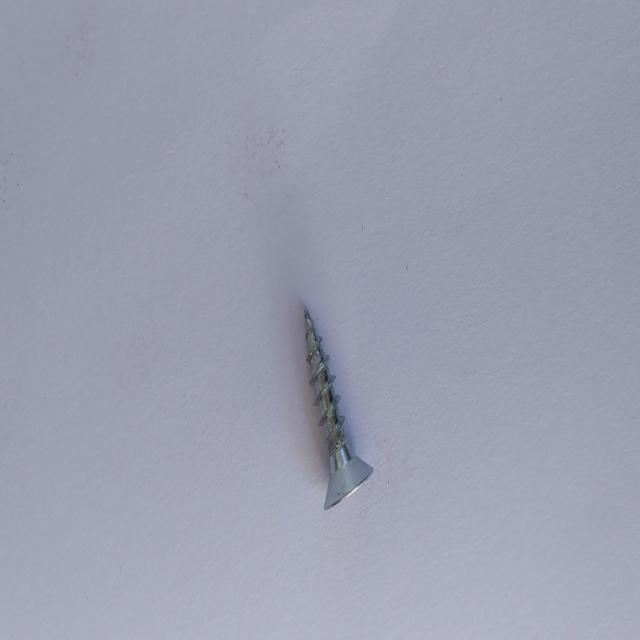Screw: (304, 306, 374, 509)
